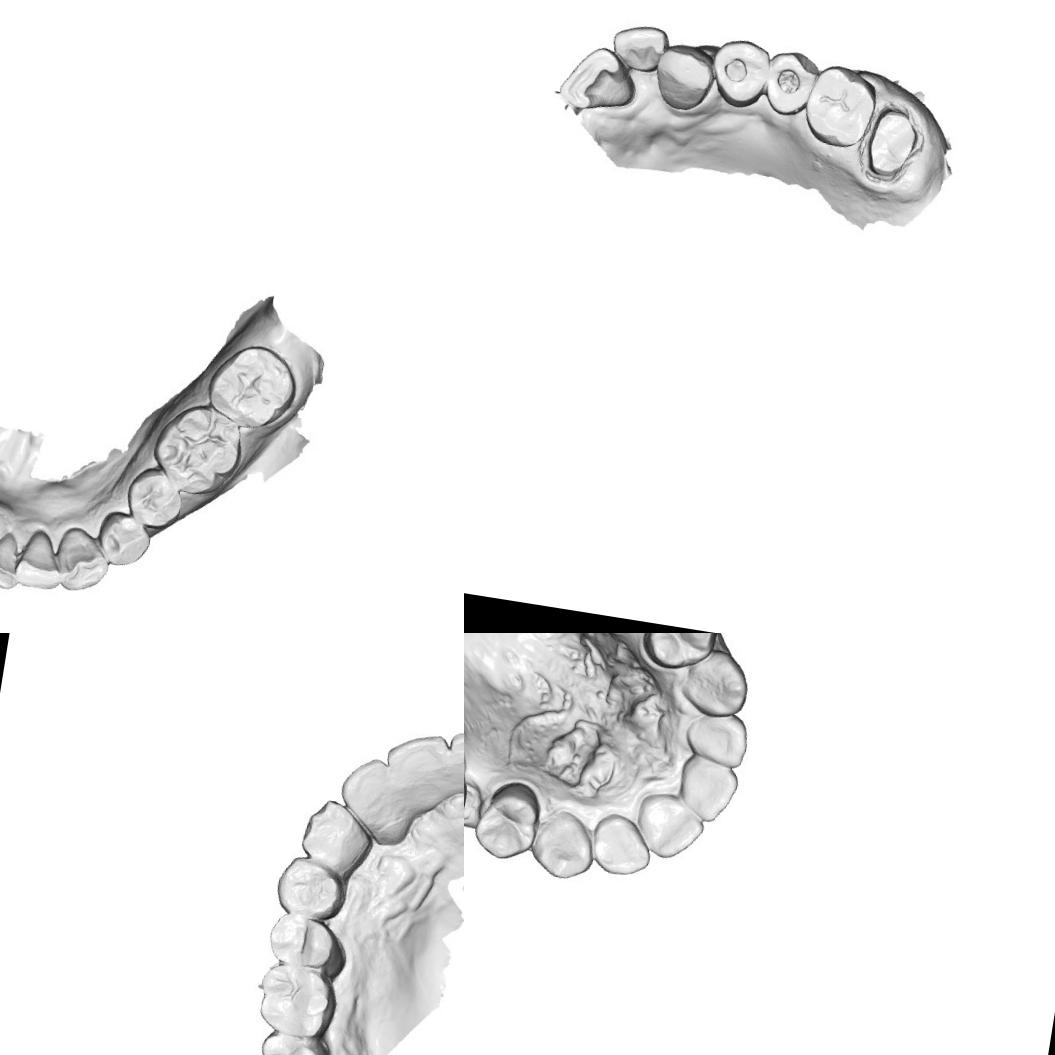canine: (528, 805, 595, 882), (652, 41, 718, 116), (301, 801, 370, 871), (682, 651, 752, 717), (54, 527, 113, 597)
crown: (860, 102, 924, 184)
incisor: (382, 731, 460, 816), (556, 42, 641, 117), (339, 758, 414, 839), (584, 810, 659, 882), (632, 790, 707, 858), (679, 706, 753, 770), (676, 754, 742, 822), (608, 18, 670, 76), (15, 528, 64, 590), (443, 726, 464, 801), (0, 530, 27, 586)
molar: (148, 398, 246, 500), (204, 342, 300, 432), (250, 958, 344, 1044), (800, 61, 880, 153), (252, 1025, 337, 1055)
premolar: (263, 851, 356, 929), (466, 776, 545, 865), (262, 908, 358, 978), (706, 34, 774, 113), (758, 48, 818, 120), (637, 633, 723, 677), (127, 468, 185, 526), (99, 510, 152, 566)
